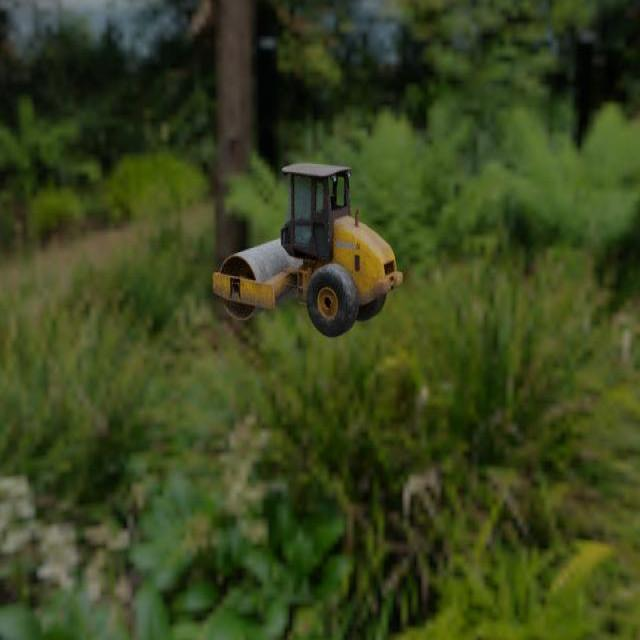Roller: (212, 162, 403, 338)
